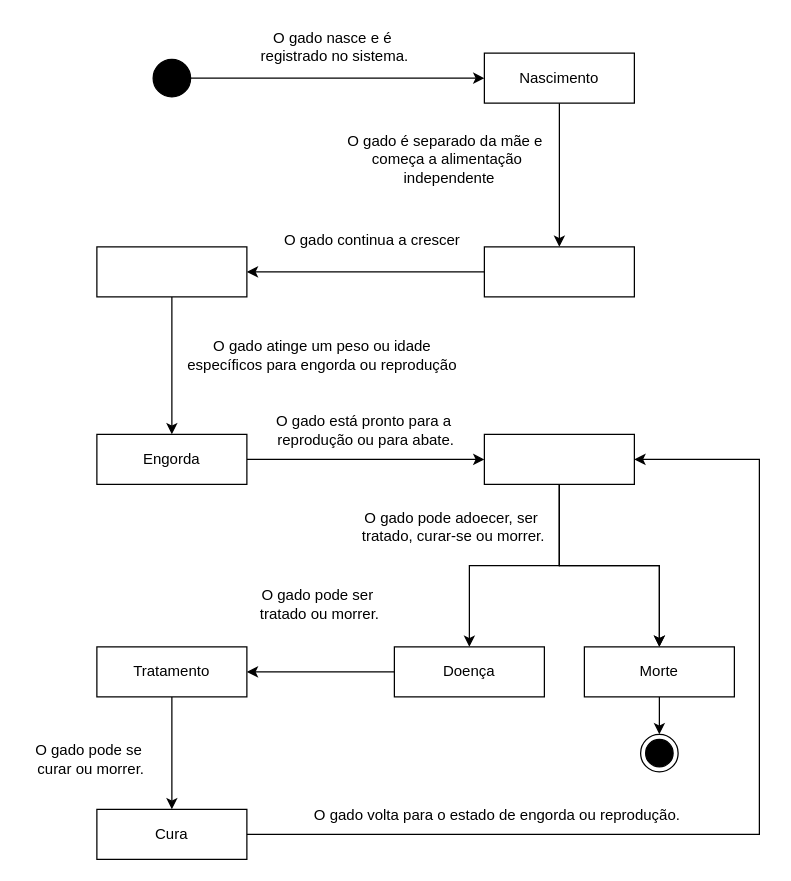
The diagram is 791 pixels wide and 881 high, and some of its shapes have lost their labels. The centre of each missing label's shape, as x and y in pixels:
"Crescimento" belongs at point 171,271.
"Desmame" belongs at point 558,271.
"Reprodução" belongs at point 558,458.
